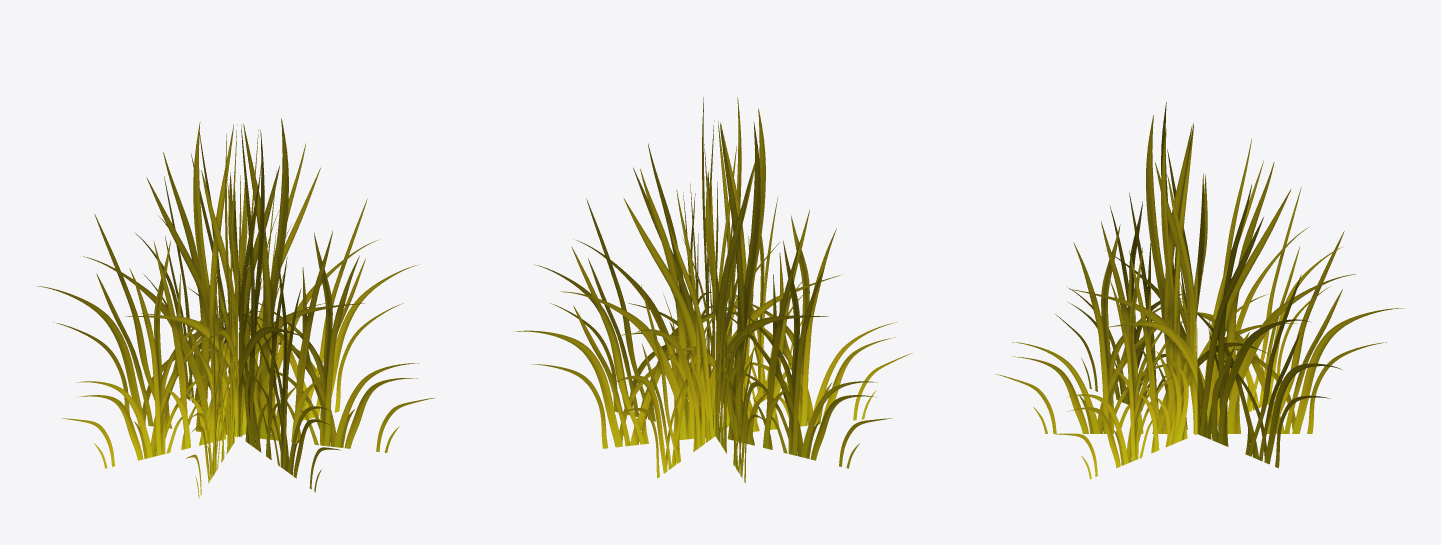
The model's file is Grass.fbx.
3 renders of one model, left to right at view 1: azimuth 30°, elevation 25°; view 2: azimuth 150°, elevation 25°; view 3: azimuth 270°, elevation 25°, orthographic.
Parts seen in each view (by area): view 1: Grama; view 2: Grama; view 3: Grama.
Boxes of the visible parts, x1=… form: Grama: x1=37, y1=118, x2=435, y2=498; Grama: x1=513, y1=97, x2=912, y2=483; Grama: x1=995, y1=102, x2=1403, y2=479.
Size of the model in its own units: 145 by 145 by 113.
